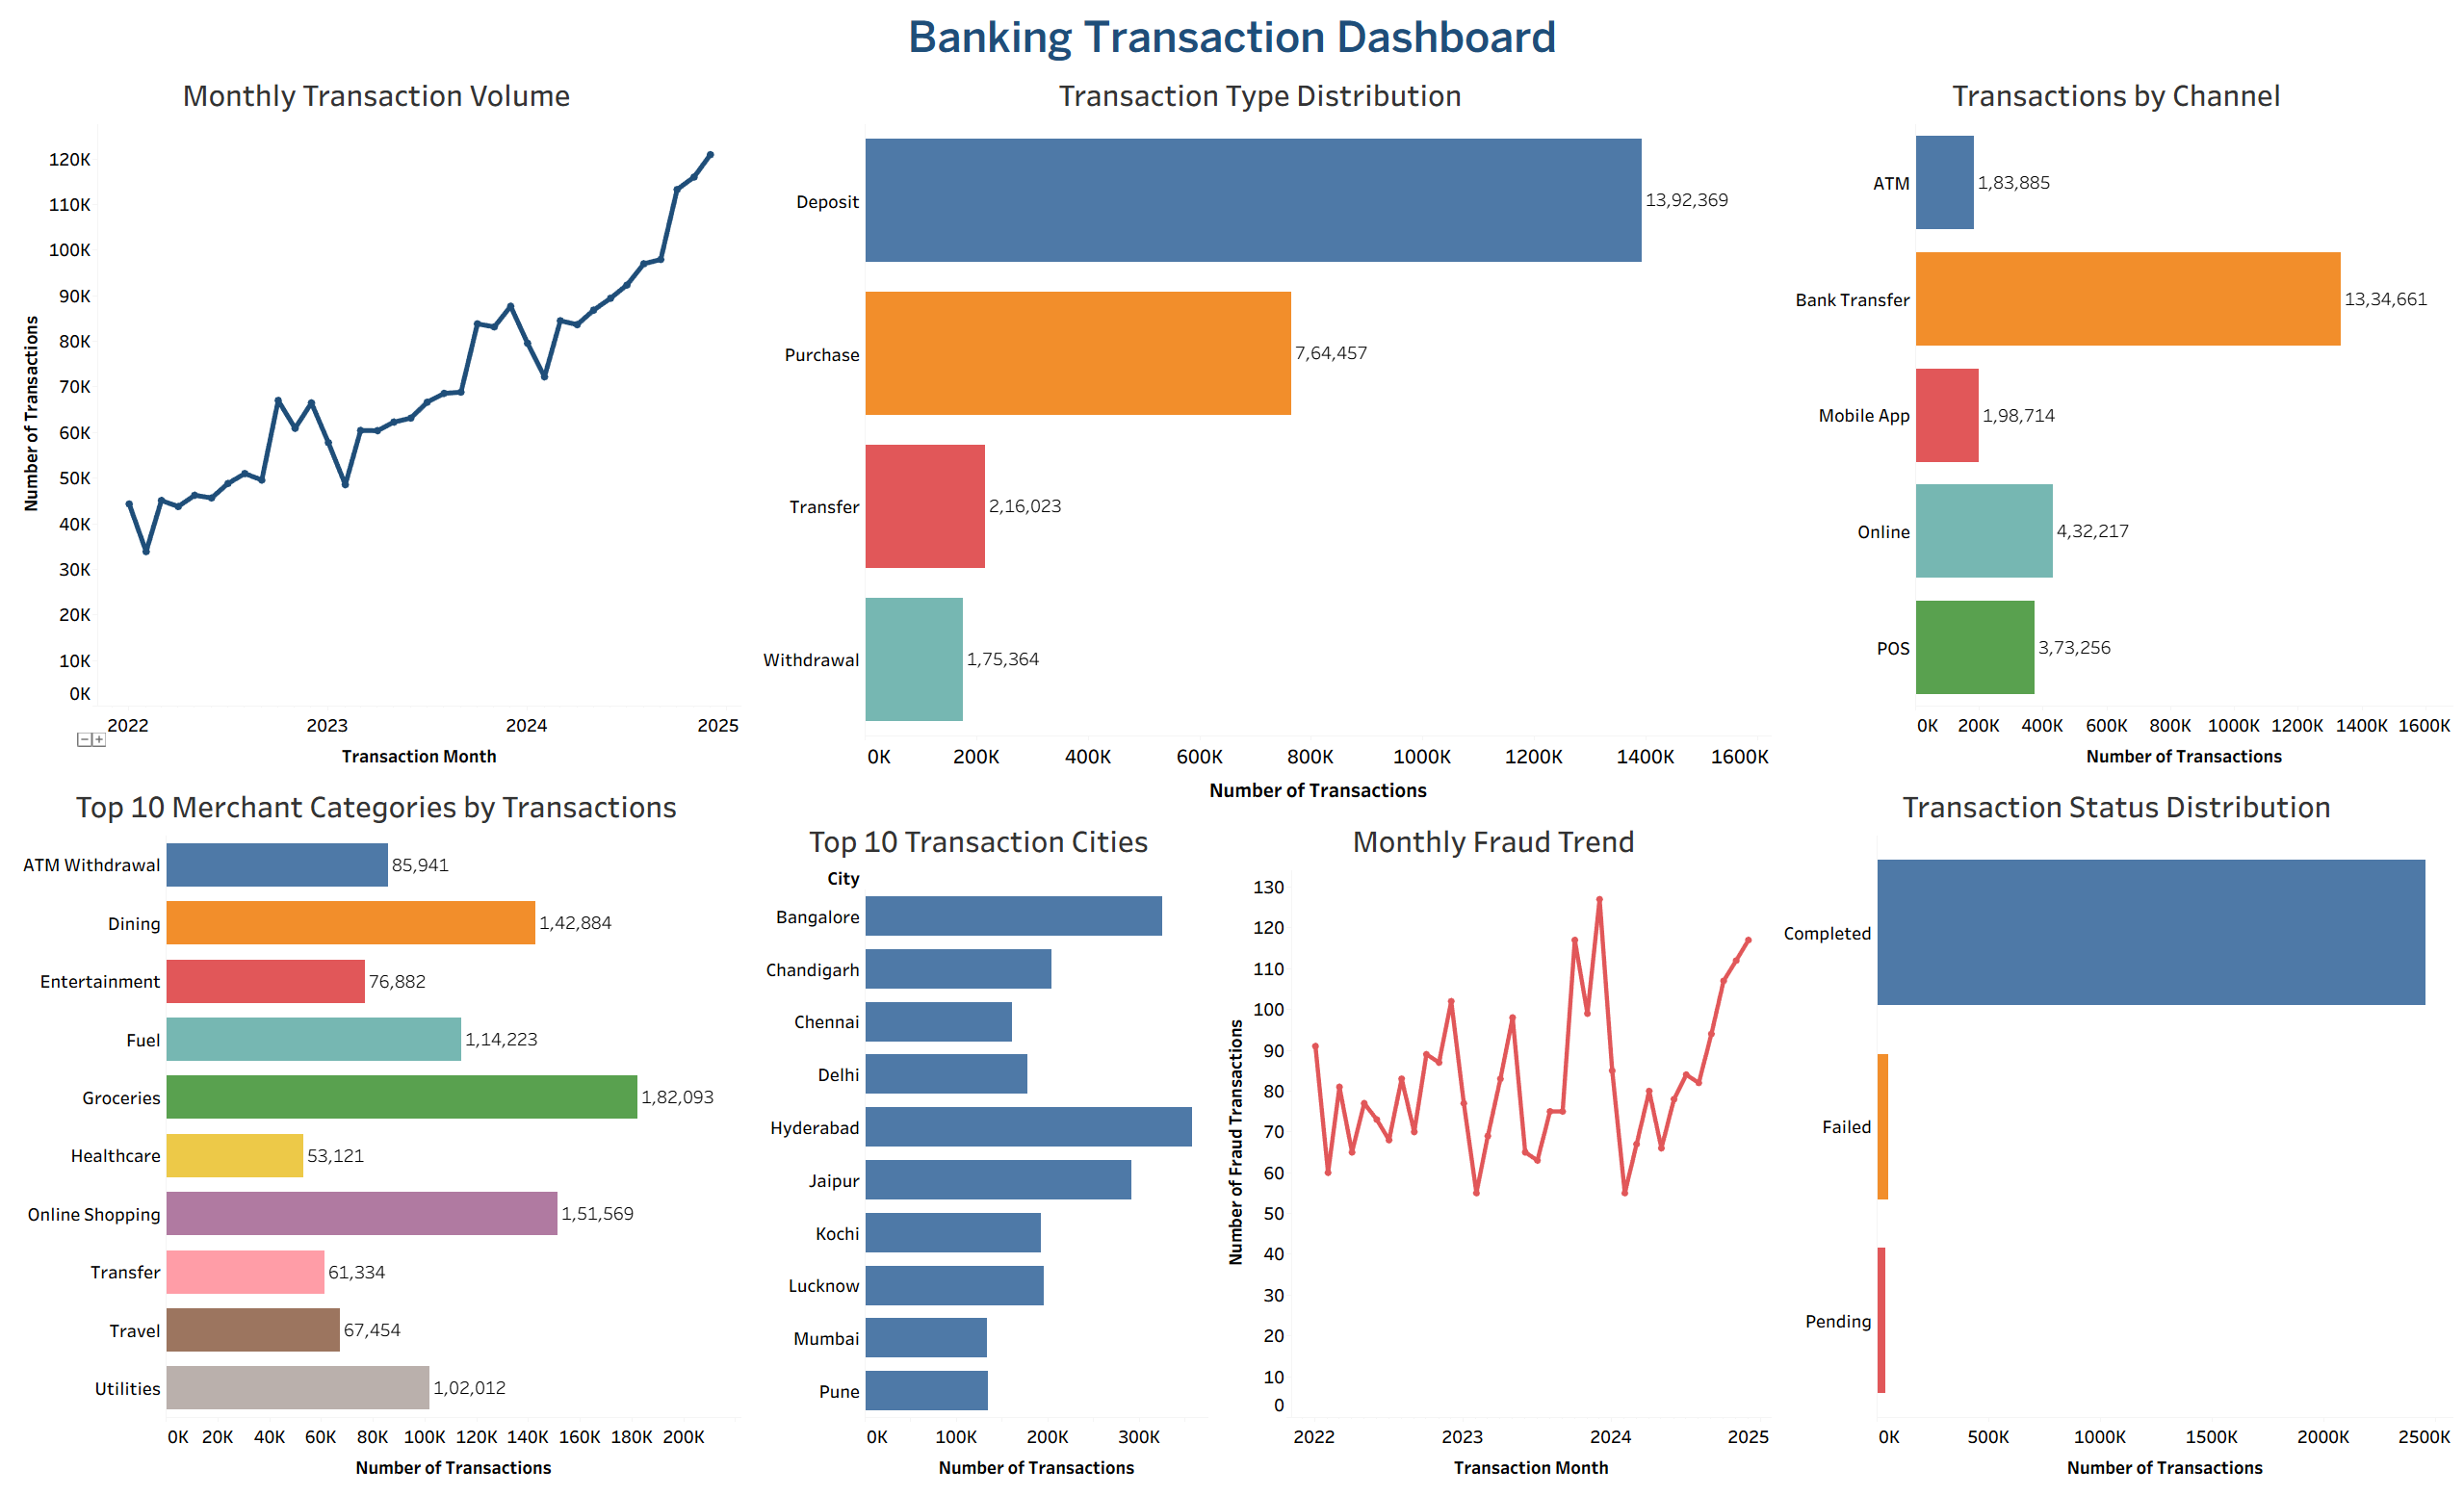

Layout of this report page (visuals, bound fields, positions):
{"tool":"tableau","page":{"name":"Dashboard 2","canvas":[1000,1000],"units":"permille","ordinal":1},"visuals":[{"type":"title","box":[3.6,6,992.9,46]},{"type":"worksheet","title":"Monthly Transaction Trend","mark":"Line","rows":["transaction_id"],"cols":["full_date"],"box":[3.6,52,299.1,470.9]},{"type":"worksheet","title":"Transaction Type Distribution","mark":"Automatic","rows":["transaction_type"],"cols":["transaction_id"],"box":[302.7,52,417.7,493.9]},{"type":"worksheet","title":"Transaction Channel Distribution","mark":"Automatic","rows":["channel"],"cols":["transaction_id"],"box":[720.3,52,276.1,470.9]},{"type":"worksheet","title":"Top Merchant Categories by Transactions","mark":"Automatic","rows":["merchant_category"],"cols":["transaction_id"],"box":[3.6,523,299.1,471]},{"type":"worksheet","title":"Transaction Status Distribution","mark":"Automatic","rows":["status"],"cols":["transaction_id"],"box":[720.3,523,276.1,471]},{"type":"worksheet","title":"Top 10 Transaction Cities","mark":"Automatic","rows":["city"],"cols":["transaction_id"],"box":[302.7,546,216.1,448]},{"type":"worksheet","title":"Fraud vs Non-Fraud Transactions","mark":"Line","rows":["transaction_id"],"cols":["full_date"],"box":[518.8,546,201.5,448]}]}

Visuals, with their boxes on the dashboard's canvas, which has no fixed pixel size, in thousandths of its width and height (x1, y1, x2, y2). These are canvas units, not pixel positions in the 2464x1495 screenshot, which may show the page scaled, cropped or inside an application window:
title: rect(4, 6, 996, 52)
"Monthly Transaction Trend" worksheet (Line marks): rect(4, 52, 303, 523)
"Transaction Type Distribution" worksheet: rect(303, 52, 720, 546)
"Transaction Channel Distribution" worksheet: rect(720, 52, 996, 523)
"Top Merchant Categories by Transactions" worksheet: rect(4, 523, 303, 994)
"Transaction Status Distribution" worksheet: rect(720, 523, 996, 994)
"Top 10 Transaction Cities" worksheet: rect(303, 546, 519, 994)
"Fraud vs Non-Fraud Transactions" worksheet (Line marks): rect(519, 546, 720, 994)
